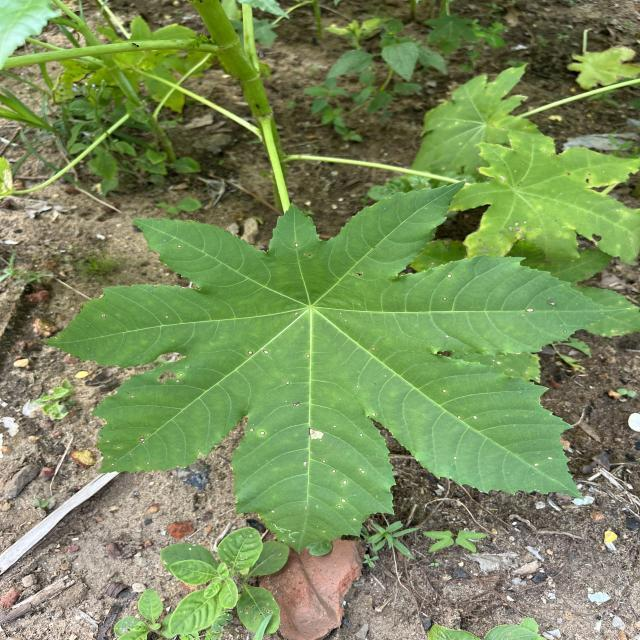Ricinus communis linn: (42, 176, 638, 560)
